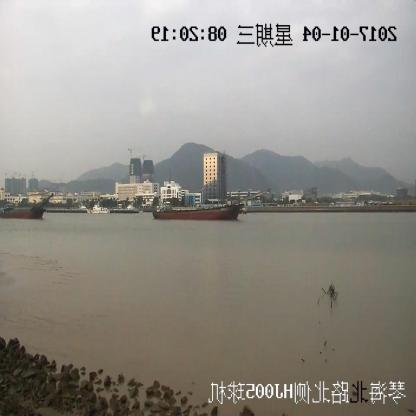Bulk Carrier: (153, 188, 270, 218), (1, 194, 53, 219)
